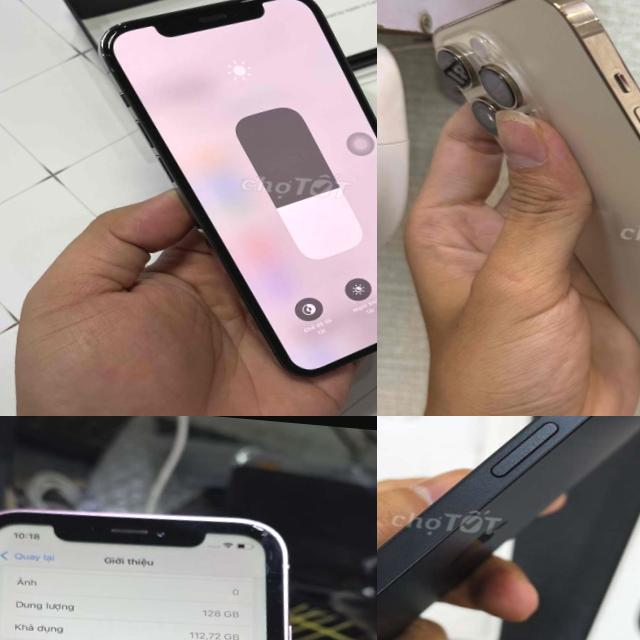gen_12_13: (71, 0, 377, 394)
gen_14: (385, 0, 640, 416)
gen_16: (377, 416, 640, 640)
gen_x_xs: (0, 510, 288, 640)
scratch: (244, 515, 284, 551)
